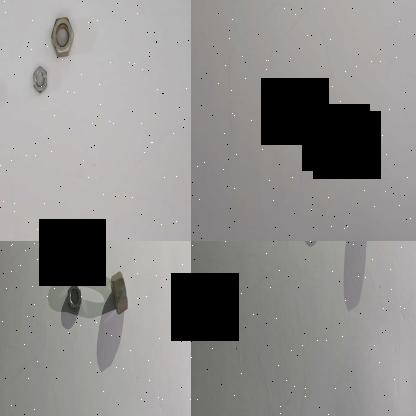NUTS: (103, 255, 133, 319), (48, 7, 75, 56), (58, 274, 84, 322), (29, 62, 49, 96)
